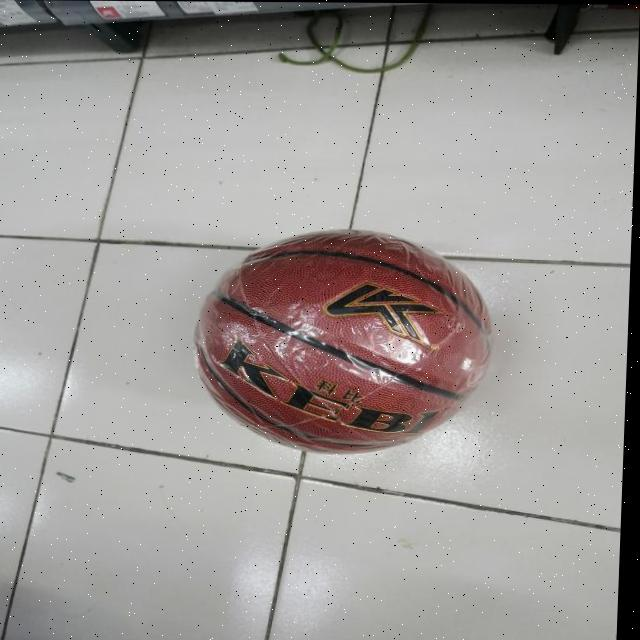Basketball: (191, 228, 504, 459)
